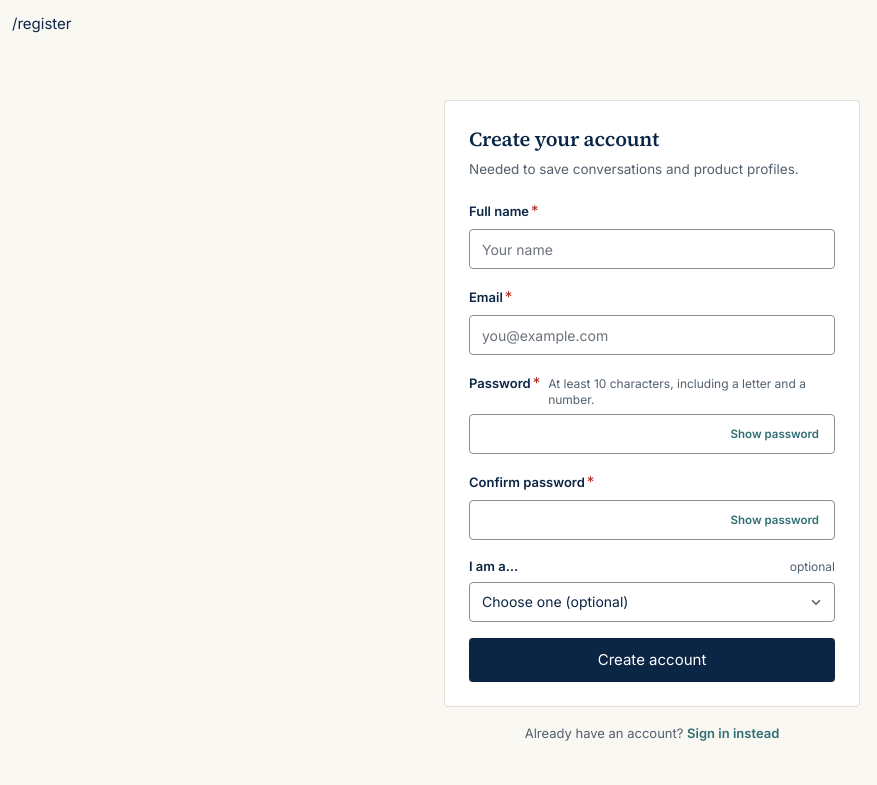
Scenario: Register › blocks a confirmation mismatch and marks the field invalid
Type "Asha Rao" into the field labelled "Full name" at x=652, y=249, box [469,229,835,269]
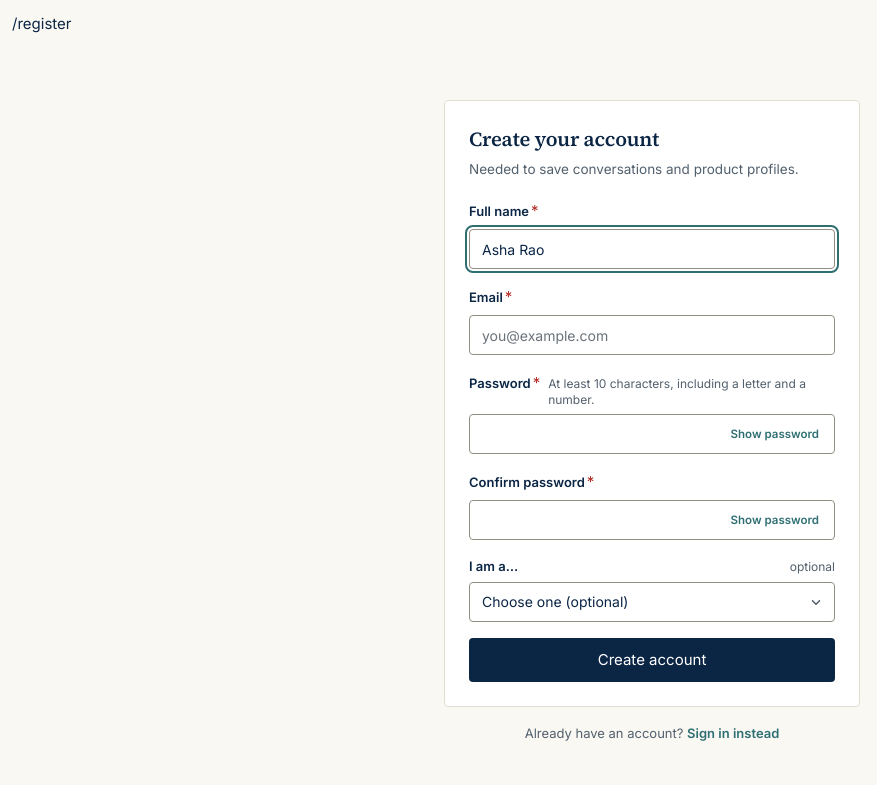
Type "asha@example.org" into the field labelled "Email" at x=652, y=335, box [469,315,835,355]
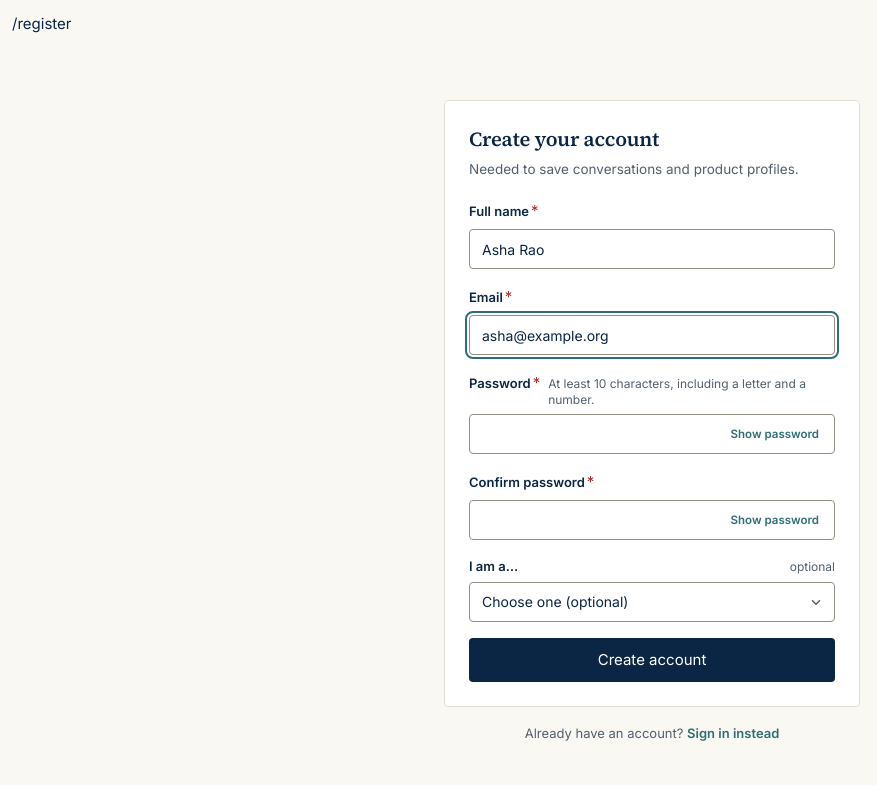
Type "Correct-Horse-9" into the password field labelled "Password" at x=652, y=434, box [469,414,835,454]
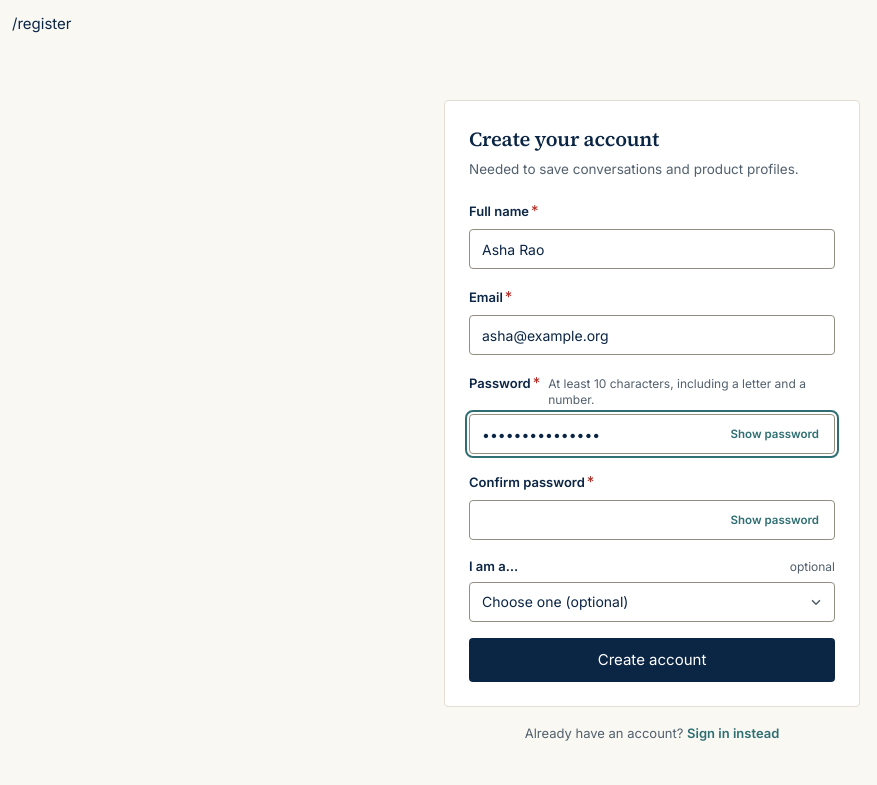
Type "Different-Horse-9" into the password field labelled "Confirm password" at x=652, y=520, box [469,500,835,540]
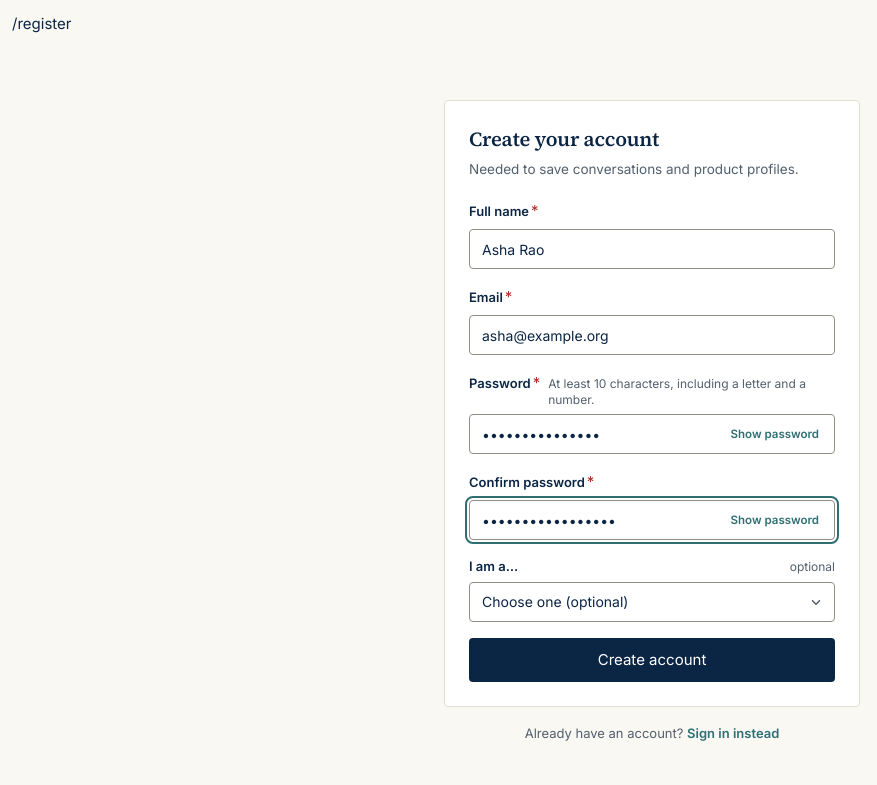
Click the button "Create account" at x=652, y=660, box [469,638,835,682]
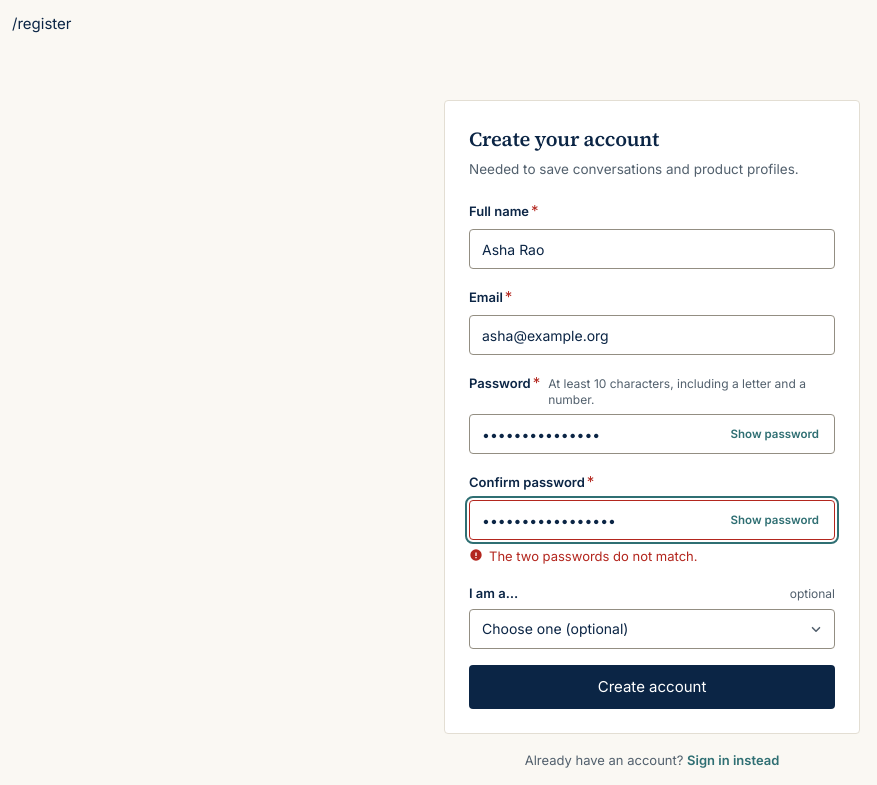
Expected: the text "The two passwords do not match." is shown, [469,548,698,564]
